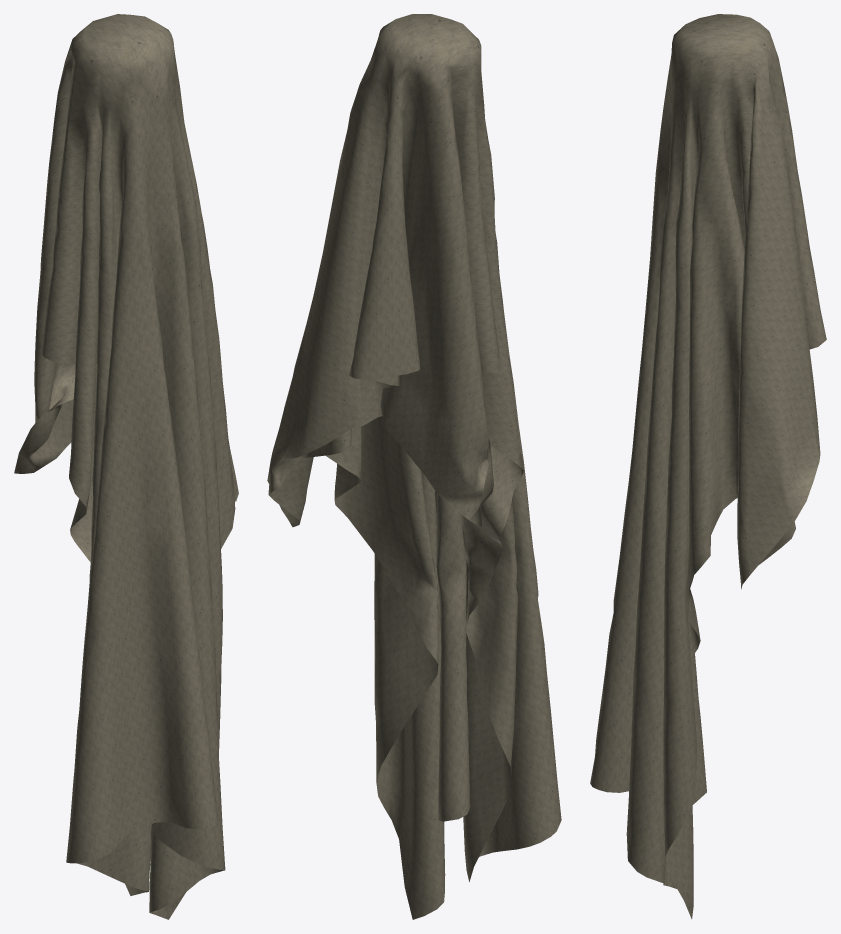
File: SM_fish_net_2_01.fbx
3 renders of one model, left to right at view 1: azimuth 30°, elevation 25°; view 2: azimuth 150°, elevation 25°; view 3: azimuth 270°, elevation 25°, orthographic. The views are drawn at different scales.
Visible parts, largest first — view 1: SM_fish_net_2_01_LOD0; view 2: SM_fish_net_2_01_LOD0; view 3: SM_fish_net_2_01_LOD0.
Boxes of the visible parts, box(x1,y1,x2,y2) form: SM_fish_net_2_01_LOD0: box(14, 14, 238, 919); SM_fish_net_2_01_LOD0: box(267, 14, 561, 919); SM_fish_net_2_01_LOD0: box(590, 14, 826, 919).
Size of the model in its own units: 46.78 by 44.43 by 182.
Materials: 1 (1 with a texture image).
